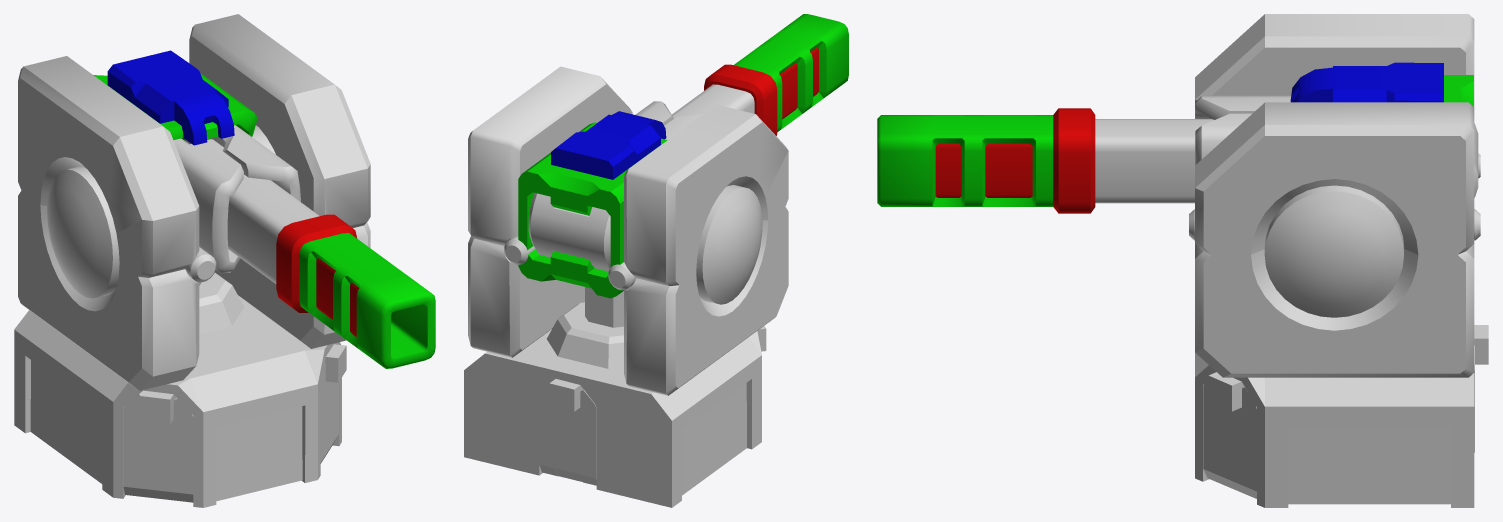
Rendered from Laser_Turret01test03.FBX.
The picture shows the model from 3 angles, left to right: view 1: azimuth 30°, elevation 25°; view 2: azimuth 150°, elevation 25°; view 3: azimuth 270°, elevation 25°; orthographic projection. The views are drawn at different scales.
Visible parts, largest first — view 1: Box171, polySurface152, Box170, Box168, Box165, Box167, Cylinder171, Box166, Object176, Box169, Box172, Cylinder170; view 2: Box171, polySurface152, Box168, Box170, Box167, Box165, Box169, Cylinder171, Box172, Object175, Object176, Box166 (+2 smaller); view 3: Box171, Box170, Box169, Box165, polySurface152, Cylinder174, Object176, Box167, Box166.
Boxes of the visible parts, left/top/right/bottom form: Box171: left=14, top=296, right=346, bottom=507; polySurface152: left=18, top=56, right=199, bottom=277; Box170: left=189, top=14, right=370, bottom=227; Box168: left=18, top=191, right=199, bottom=390; Box165: left=276, top=214, right=435, bottom=368; Box167: left=93, top=50, right=257, bottom=145; Cylinder171: left=47, top=166, right=119, bottom=298; Box166: left=173, top=125, right=300, bottom=273; Object176: left=190, top=139, right=319, bottom=283; Box169: left=215, top=222, right=370, bottom=348; Box172: left=199, top=272, right=244, bottom=334; Cylinder170: left=185, top=247, right=216, bottom=282; Box171: left=464, top=326, right=766, bottom=507; polySurface152: left=624, top=104, right=788, bottom=286; Box168: left=624, top=207, right=788, bottom=395; Box170: left=468, top=66, right=632, bottom=245; Box167: left=518, top=111, right=667, bottom=298; Box165: left=704, top=14, right=848, bottom=135; Box169: left=468, top=235, right=584, bottom=357; Cylinder171: left=696, top=185, right=762, bottom=304; Box172: left=547, top=287, right=623, bottom=368; Object175: left=528, top=193, right=610, bottom=271; Object176: left=672, top=84, right=754, bottom=118; Box166: left=635, top=101, right=702, bottom=139; Box171: left=1195, top=325, right=1488, bottom=507; Box170: left=1195, top=102, right=1474, bottom=254; Box169: left=1195, top=244, right=1474, bottom=377; Box165: left=877, top=108, right=1095, bottom=213; polySurface152: left=1195, top=14, right=1474, bottom=118; Cylinder174: left=1264, top=185, right=1403, bottom=317; Object176: left=1095, top=119, right=1214, bottom=203; Box167: left=1290, top=62, right=1473, bottom=106; Box166: left=1195, top=95, right=1291, bottom=164.
Size of the model in its own units: 174 by 334 by 228.
